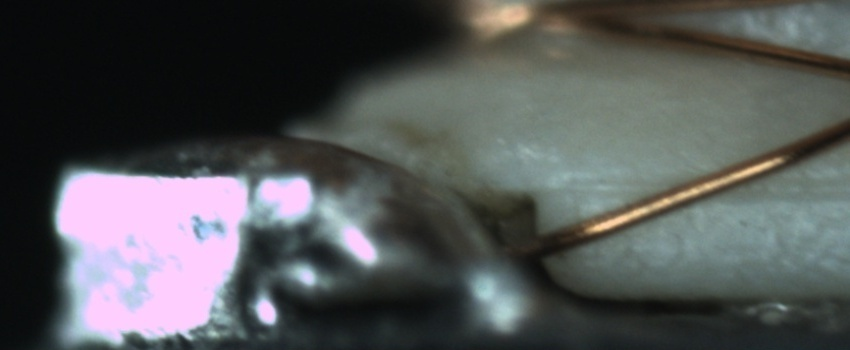DL: (566, 153, 848, 217)
